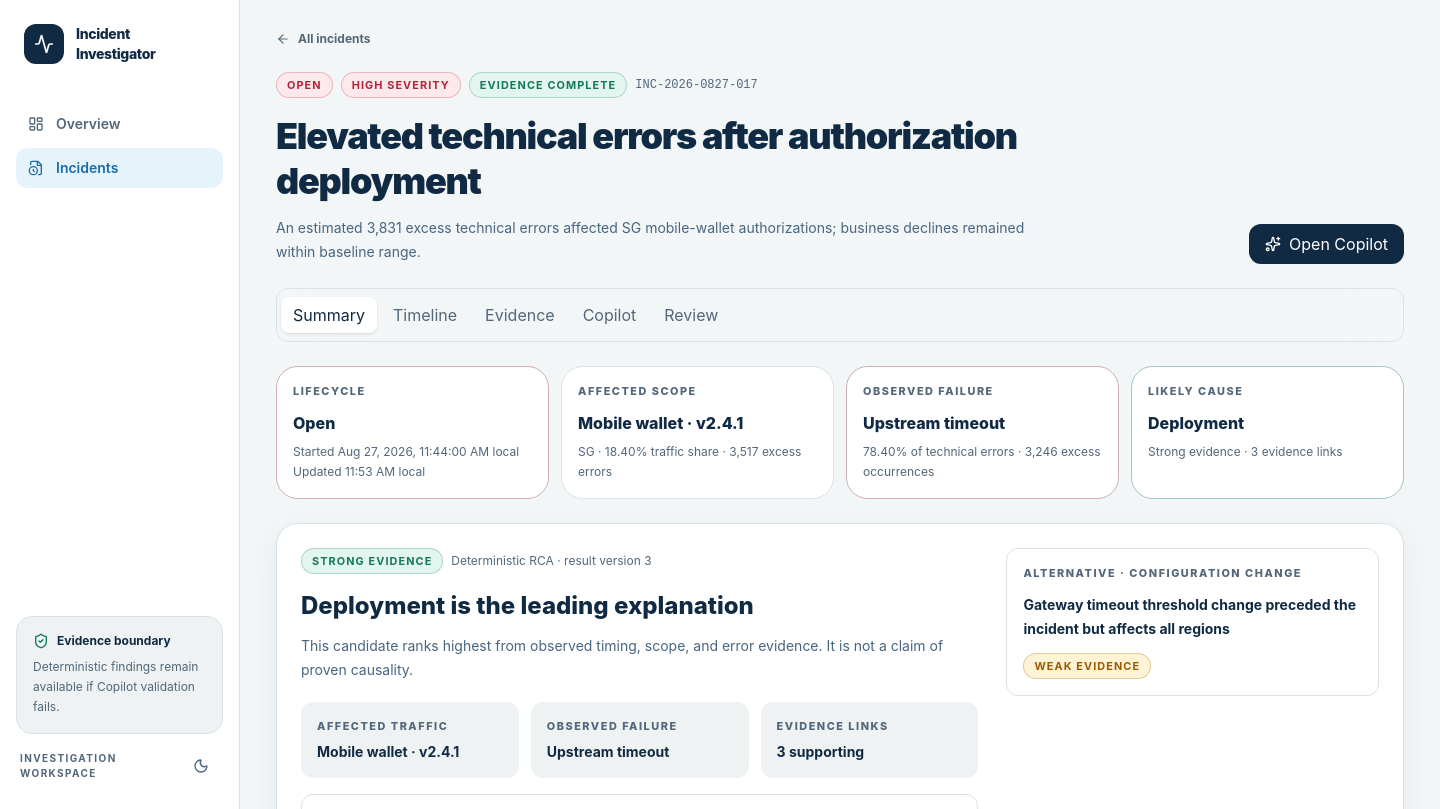
Test: puts a suggested question into the sticky composer
Click the button "Open Copilot": x=1326, y=244 [1249,224,1404,264]
(page scrolled)
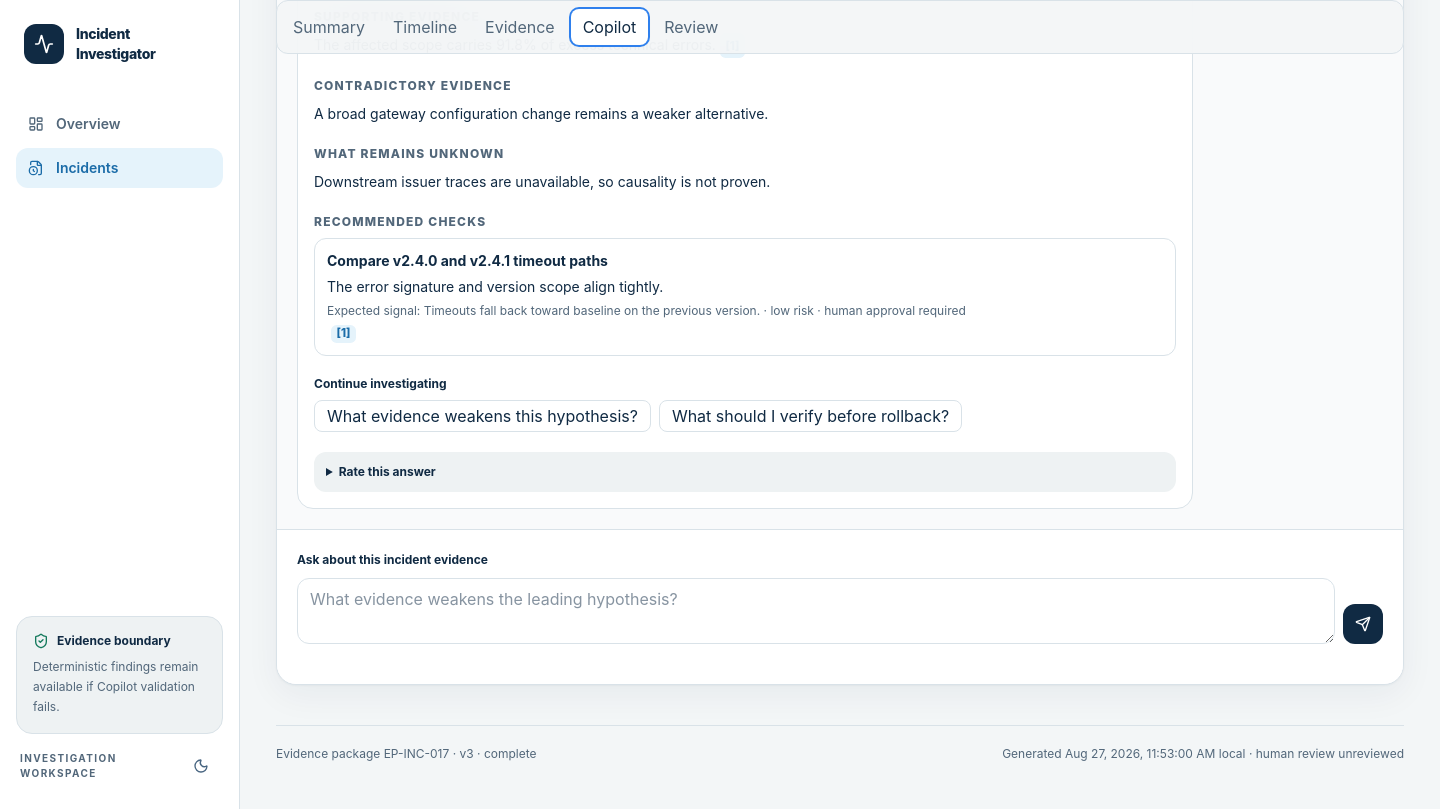
Click the button "What evidence weakens this hypothesis?": x=482, y=416 [314,400,651,432]
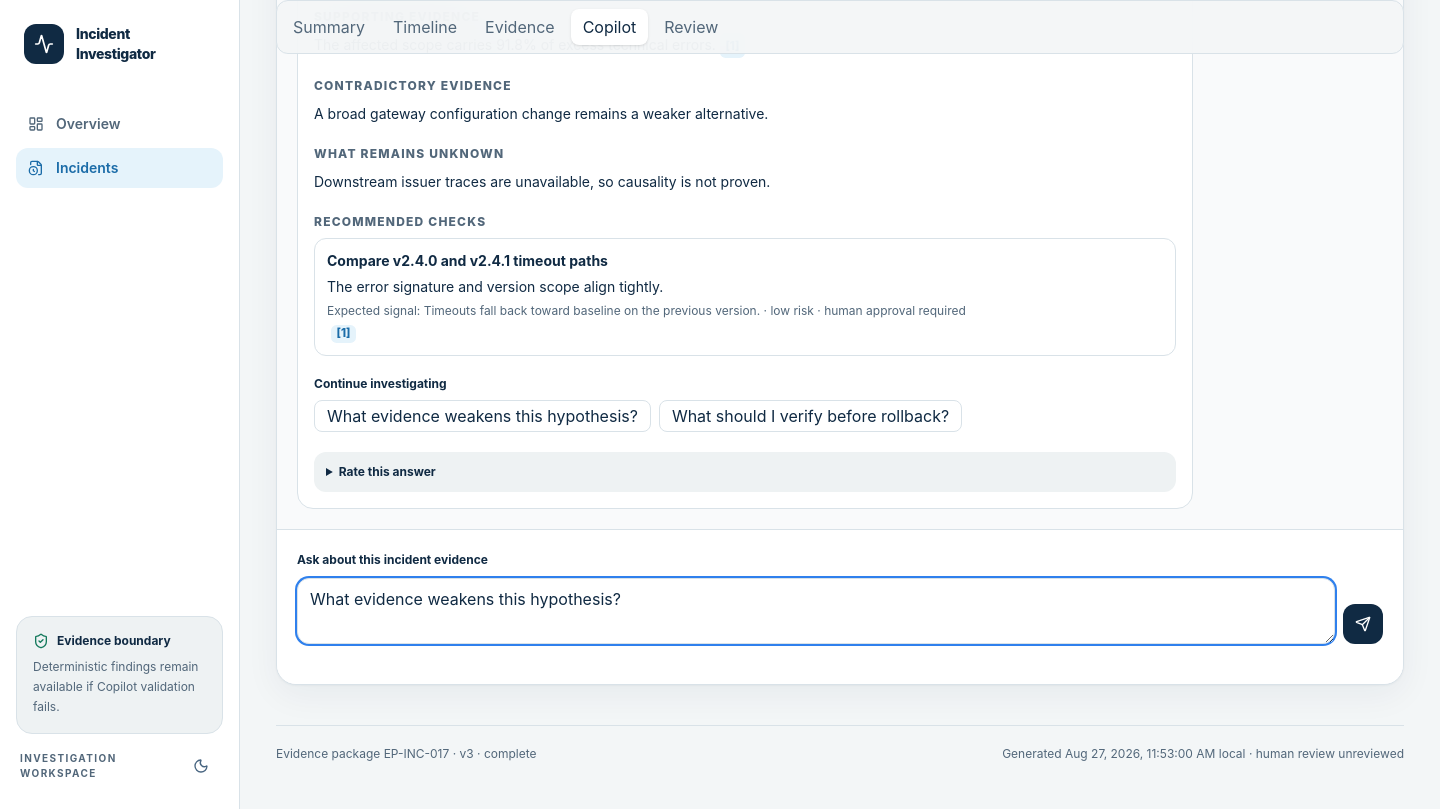
Now the text box labelled "Ask about this incident evidence" holds "What evidence weakens this hypothesis?", box [297,578,1335,644]
